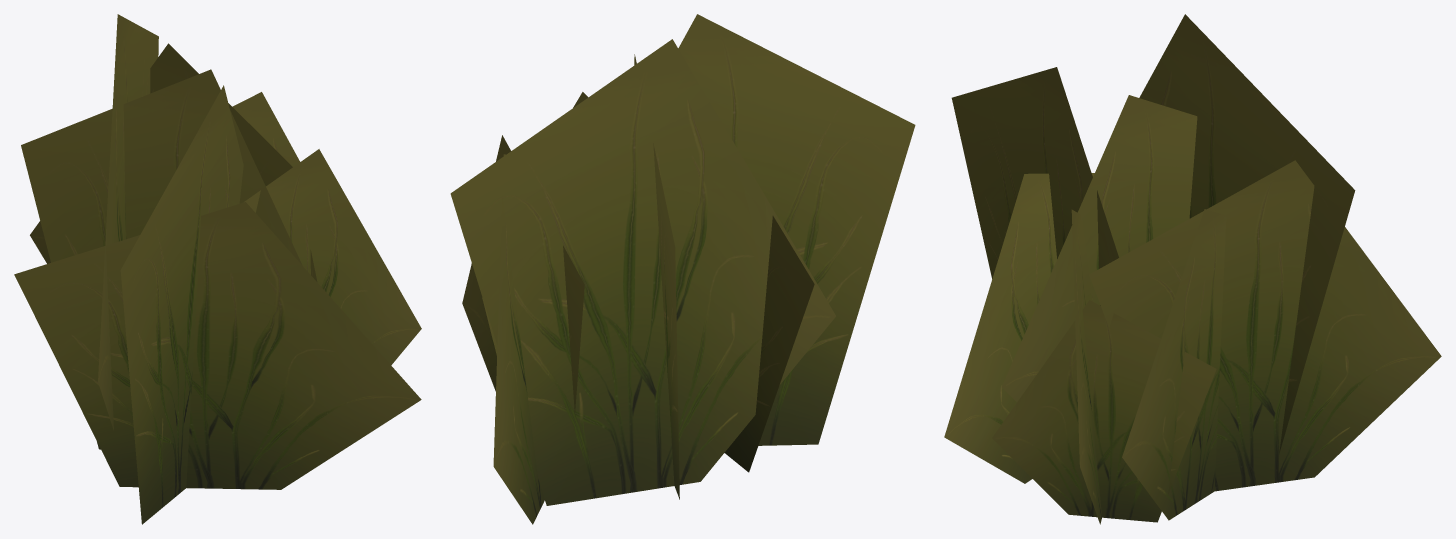
File: grass3_lod0.glb
3 renders of one model, left to right at view 1: azimuth 30°, elevation 25°; view 2: azimuth 150°, elevation 25°; view 3: azimuth 270°, elevation 25°, orthographic. The views are drawn at different scales.
Parts seen in each view (by area): view 1: grass3_LOD0; view 2: grass3_LOD0; view 3: grass3_LOD0.
Boxes of the visible parts, x1,y1,x2,y2 form: grass3_LOD0: [14, 14, 421, 524]; grass3_LOD0: [450, 14, 915, 524]; grass3_LOD0: [944, 14, 1441, 524].
Bounding box in the file's own units: 0.8236 × 0.926 × 0.9702.
Materials: 1 (1 with a texture image).
